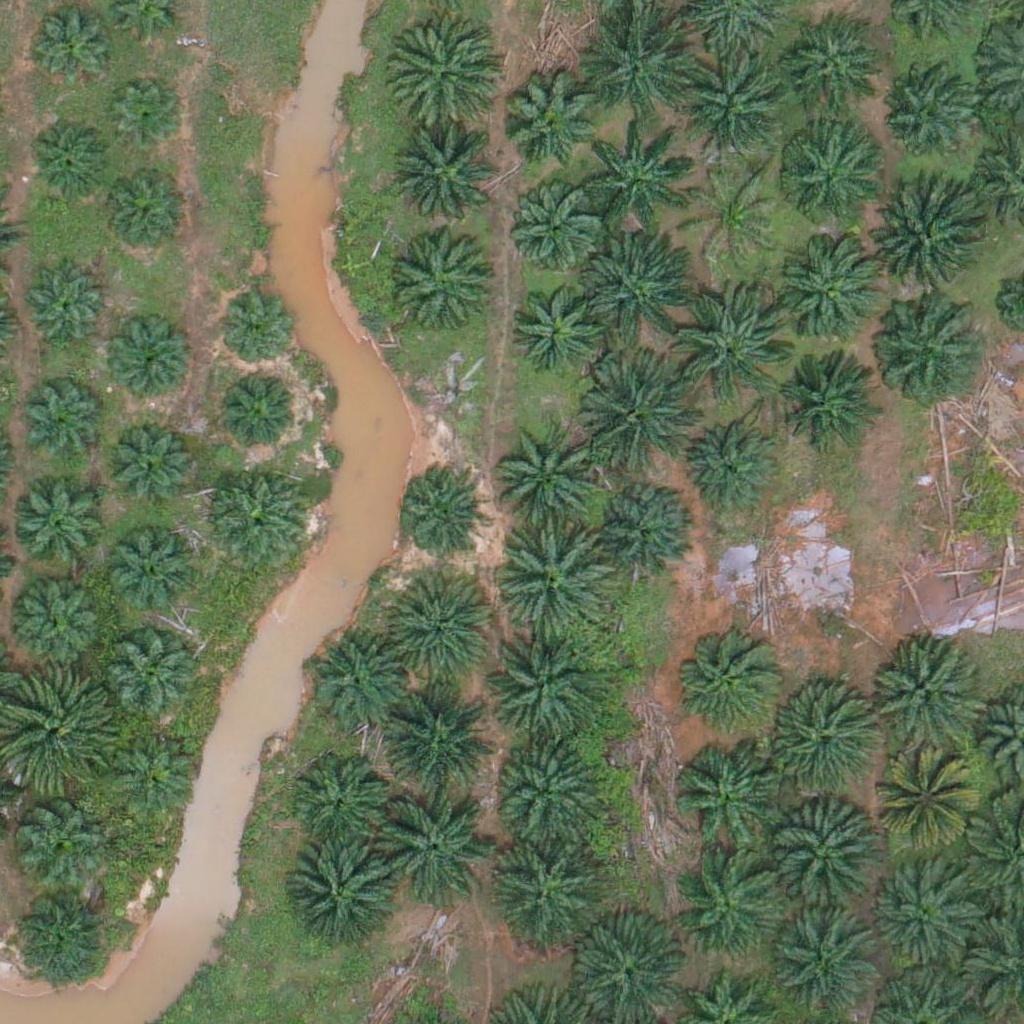Kelapa_Sawit: (494, 730, 607, 844), (582, 358, 695, 472), (485, 635, 598, 749), (383, 571, 496, 685), (769, 803, 882, 916), (671, 745, 784, 858), (282, 842, 395, 955), (869, 183, 982, 296), (583, 232, 696, 345), (385, 13, 498, 126), (674, 850, 786, 964), (777, 233, 889, 347), (679, 57, 791, 171), (672, 622, 784, 736), (382, 679, 494, 793), (392, 122, 504, 236), (486, 833, 598, 946), (374, 790, 486, 903), (868, 641, 980, 754), (758, 685, 870, 798), (871, 299, 983, 412), (675, 288, 787, 401), (580, 119, 692, 232), (584, 4, 696, 117), (496, 412, 608, 525), (500, 526, 612, 639), (867, 862, 967, 963), (775, 919, 875, 1020), (289, 752, 389, 853), (876, 65, 976, 166), (685, 161, 785, 262), (592, 479, 692, 580), (502, 179, 602, 280), (506, 275, 606, 376), (395, 231, 495, 332), (208, 464, 308, 565), (100, 525, 200, 626), (308, 632, 408, 733), (873, 756, 973, 856), (10, 887, 110, 987), (778, 352, 878, 452), (782, 23, 882, 123), (775, 124, 875, 224), (681, 425, 781, 525), (499, 72, 599, 172), (10, 571, 110, 671), (14, 475, 114, 575), (27, 1, 115, 90), (14, 794, 102, 882), (97, 168, 185, 256), (111, 729, 199, 817), (20, 378, 108, 466), (396, 465, 483, 553), (26, 116, 113, 204), (19, 264, 106, 352), (108, 321, 195, 409), (215, 367, 302, 455), (109, 637, 196, 725), (104, 416, 191, 504), (109, 81, 184, 157), (218, 294, 293, 370)
